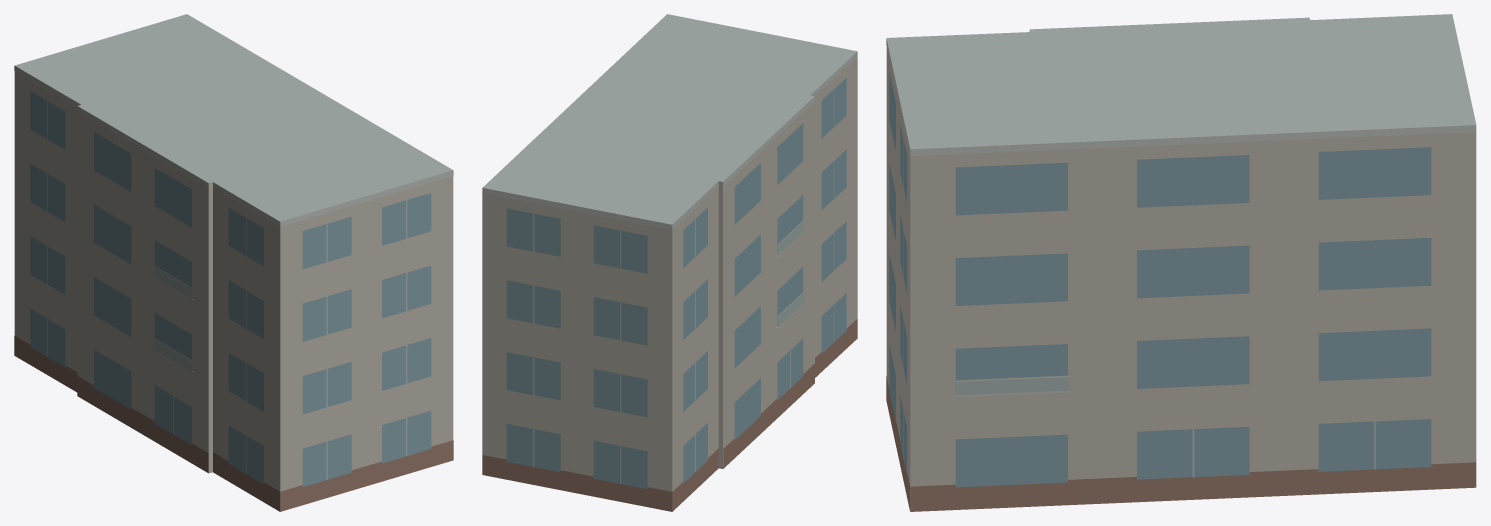
File: survey-upis-32665354.glb
3 renders of one model, left to right at view 1: azimuth 30°, elevation 25°; view 2: azimuth 150°, elevation 25°; view 3: azimuth 270°, elevation 25°, orthographic. The views are drawn at different scales.
Parts seen in each view (by area): view 1: survey-upis-32665354.tmp; view 2: survey-upis-32665354.tmp; view 3: survey-upis-32665354.tmp.
Boxes of the visible parts, x1,y1,x2,y2 form: survey-upis-32665354.tmp: (14,14,453,511); survey-upis-32665354.tmp: (482,14,857,511); survey-upis-32665354.tmp: (886,14,1476,511).
Size of the model in its own units: 10.34 by 12.9 by 19.04.
